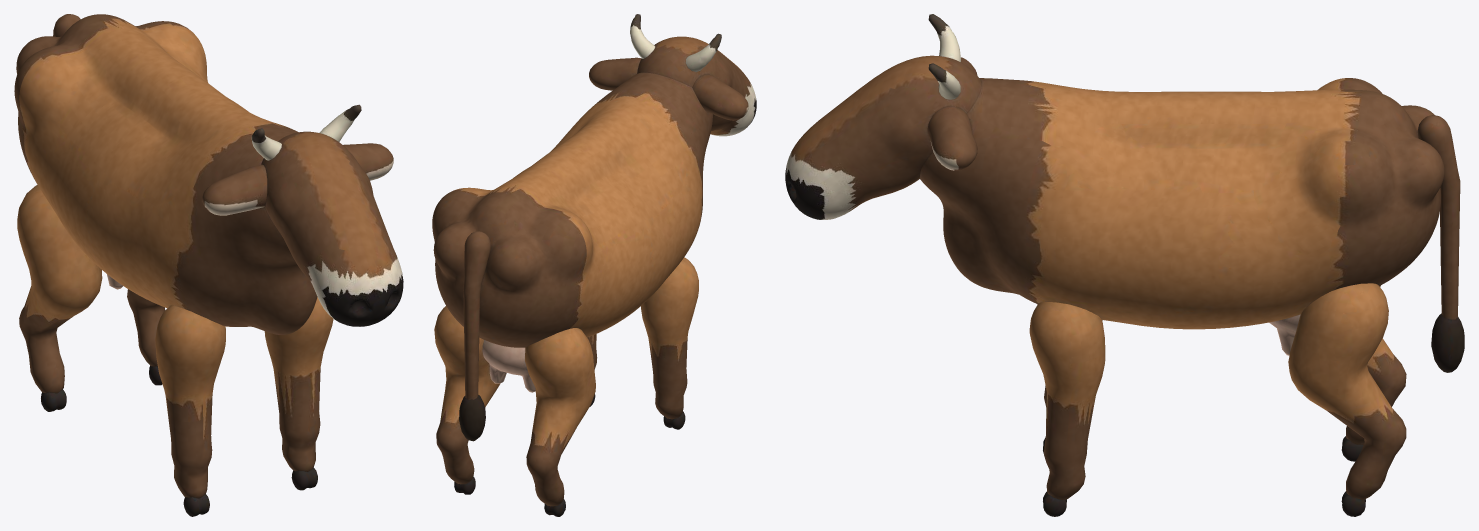
The model's file is animal_jersey_cow.glb.
3 renders of one model, left to right at view 1: azimuth 30°, elevation 25°; view 2: azimuth 150°, elevation 25°; view 3: azimuth 270°, elevation 25°, orthographic. The views are drawn at different scales.
Parts seen in each view (by area): view 1: animal_jersey_cow, head, leg2, leg0, leg1, leg3; view 2: animal_jersey_cow, leg2, head, leg0, leg3, tail; view 3: animal_jersey_cow, head, leg3, leg1, tail, leg2.
Boxes of the visible parts, <box> form: animal_jersey_cow: <box>14,14,317,334</box>; head: <box>202,104,403,326</box>; leg2: <box>17,185,102,411</box>; leg0: <box>155,305,225,516</box>; leg1: <box>264,297,333,490</box>; leg3: <box>127,289,165,385</box>; animal_jersey_cow: <box>432,72,712,392</box>; leg2: <box>525,328,595,516</box>; head: <box>589,14,756,136</box>; leg0: <box>641,257,698,429</box>; leg3: <box>434,306,500,494</box>; tail: <box>459,231,490,441</box>; animal_jersey_cow: <box>920,78,1444,355</box>; head: <box>785,14,981,219</box>; leg3: <box>1288,283,1406,516</box>; leg1: <box>1029,302,1105,516</box>; tail: <box>1417,115,1464,372</box>; leg2: <box>1341,285,1406,461</box>.
Bounding box in the file's own units: 0.2556 × 0.5424 × 0.7476.
Materials: 1 (1 with a texture image).
